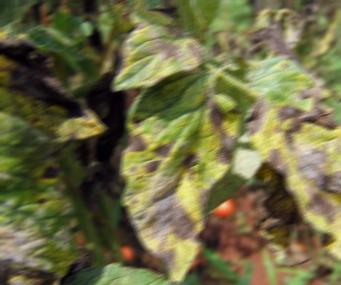Tomato Early blight leaf: (238, 59, 341, 282), (130, 70, 237, 281), (0, 31, 113, 144), (114, 6, 207, 84)
